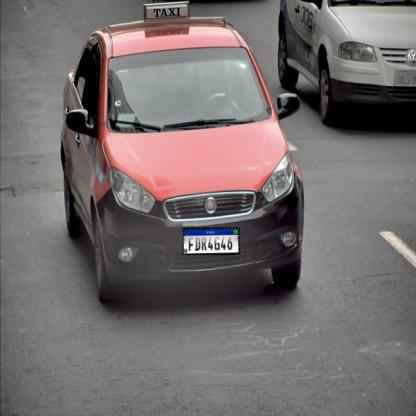PlacaM: (182, 228, 240, 255)
